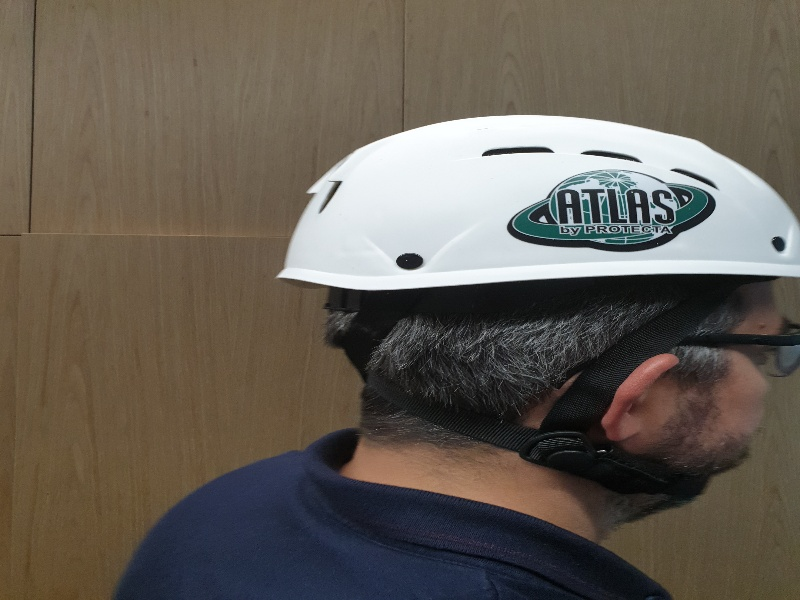Baret: (286, 112, 800, 292)
